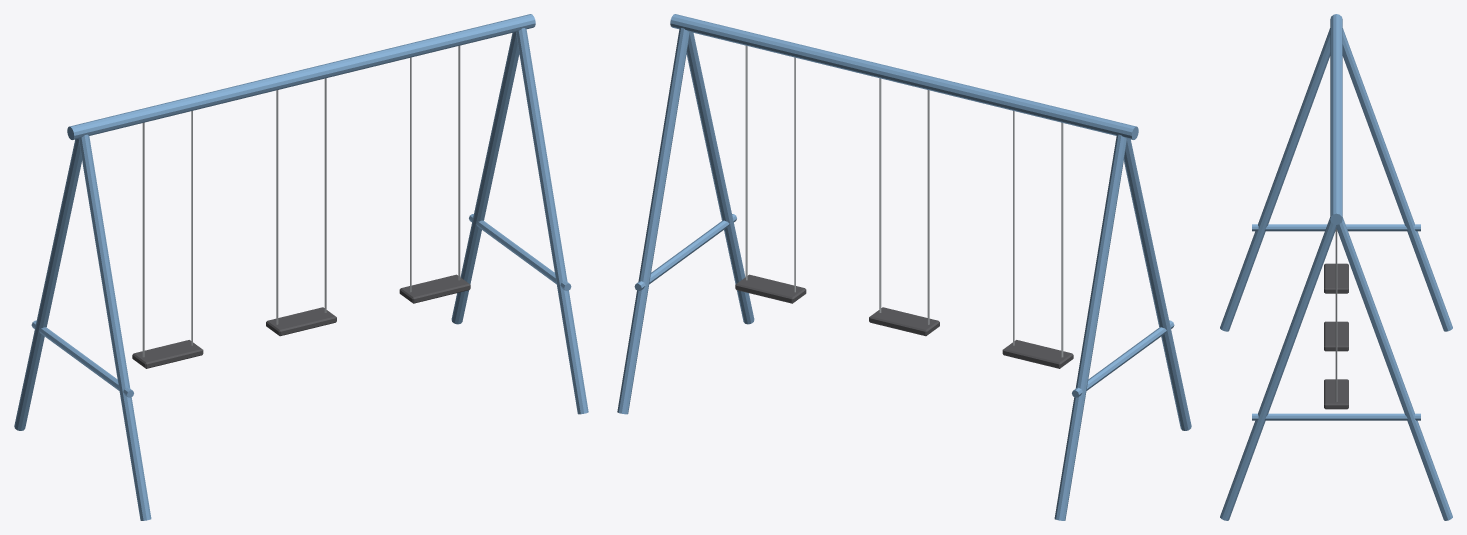
File: swing_set.glb
3 renders of one model, left to right at view 1: azimuth 30°, elevation 25°; view 2: azimuth 150°, elevation 25°; view 3: azimuth 270°, elevation 25°, orthographic. The views are drawn at different scales.
Parts seen in each view (by area): view 1: swing_set_blue_p, swing_set_steel, swing_set_rubber; view 2: swing_set_blue_p, swing_set_steel, swing_set_rubber; view 3: swing_set_blue_p, swing_set_rubber, swing_set_steel.
Boxes of the visible parts, <box> form: swing_set_blue_p: <box>14,14,588,520</box>; swing_set_steel: <box>142,45,460,357</box>; swing_set_rubber: <box>132,274,470,368</box>; swing_set_blue_p: <box>617,14,1191,520</box>; swing_set_steel: <box>745,45,1063,357</box>; swing_set_rubber: <box>735,274,1073,368</box>; swing_set_blue_p: <box>1220,14,1452,520</box>; swing_set_rubber: <box>1324,263,1348,409</box>; swing_set_steel: <box>1335,228,1337,402</box>.
Size of the model in its own units: 3.8 by 2.76 by 1.87.
